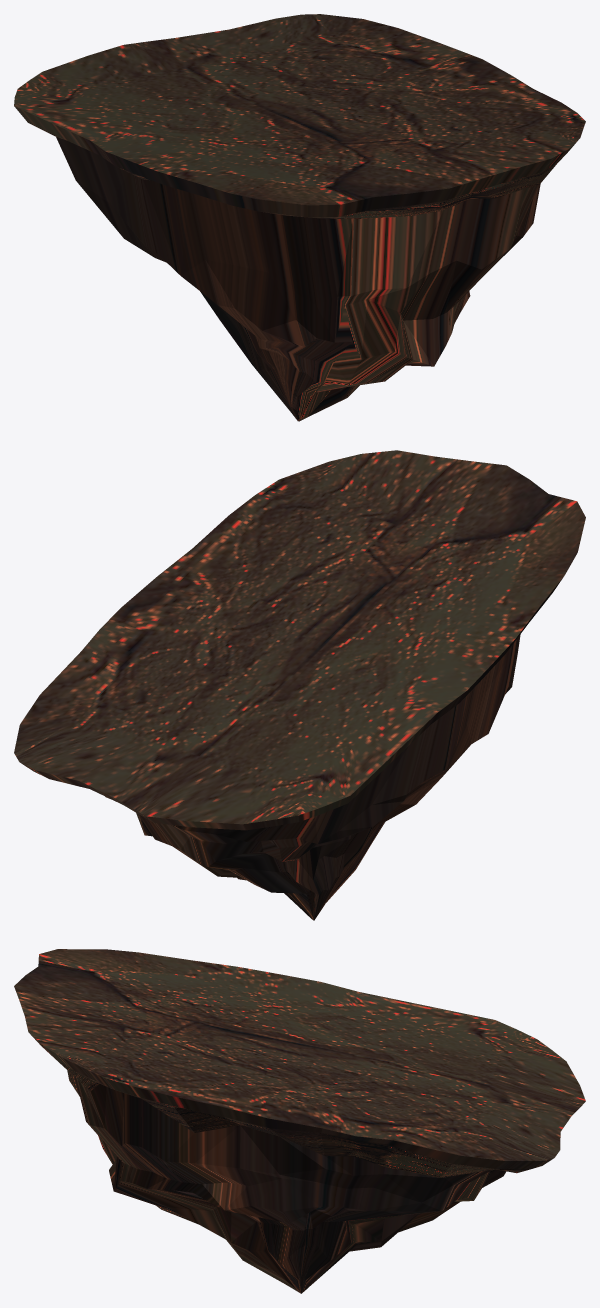
File: 3x5 angled.fbx
3 renders of one model, top to bottom at view 1: azimuth 30°, elevation 25°; view 2: azimuth 150°, elevation 25°; view 3: azimuth 270°, elevation 25°, orthographic. The views are drawn at different scales.
Parts seen in each view (by area): view 1: 3x5 angled; view 2: 3x5 angled; view 3: 3x5 angled.
Part boxes in pixels (x1,y1,x2,y2): 3x5 angled: [14, 14, 585, 421]; 3x5 angled: [14, 450, 585, 920]; 3x5 angled: [14, 949, 585, 1293].
Bounding box in the file's own units: 382 × 357 × 625.
